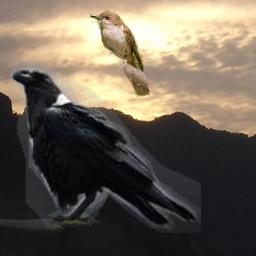Crow: (11, 61, 201, 233)
Cuckoo: (89, 10, 150, 97)
